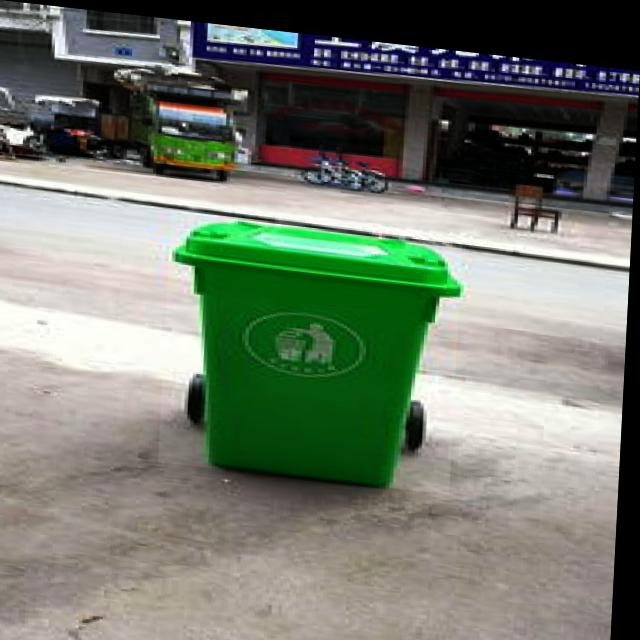garbage_bin: (163, 206, 464, 483)
